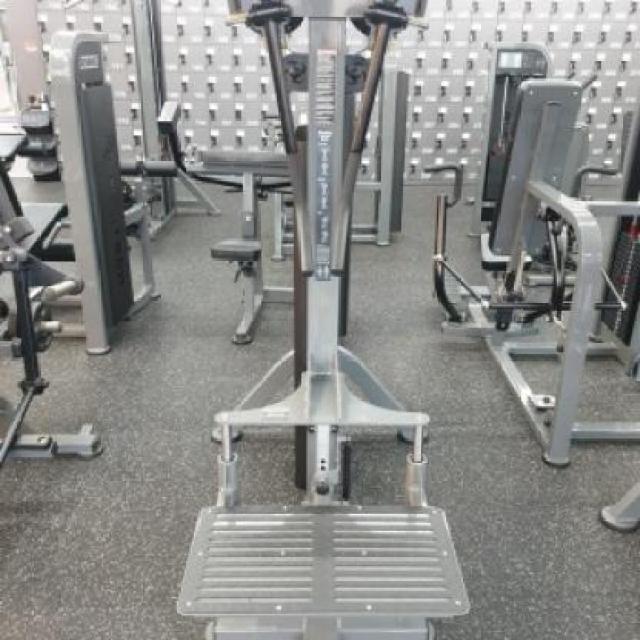lateral raises machine: (217, 0, 431, 640)
